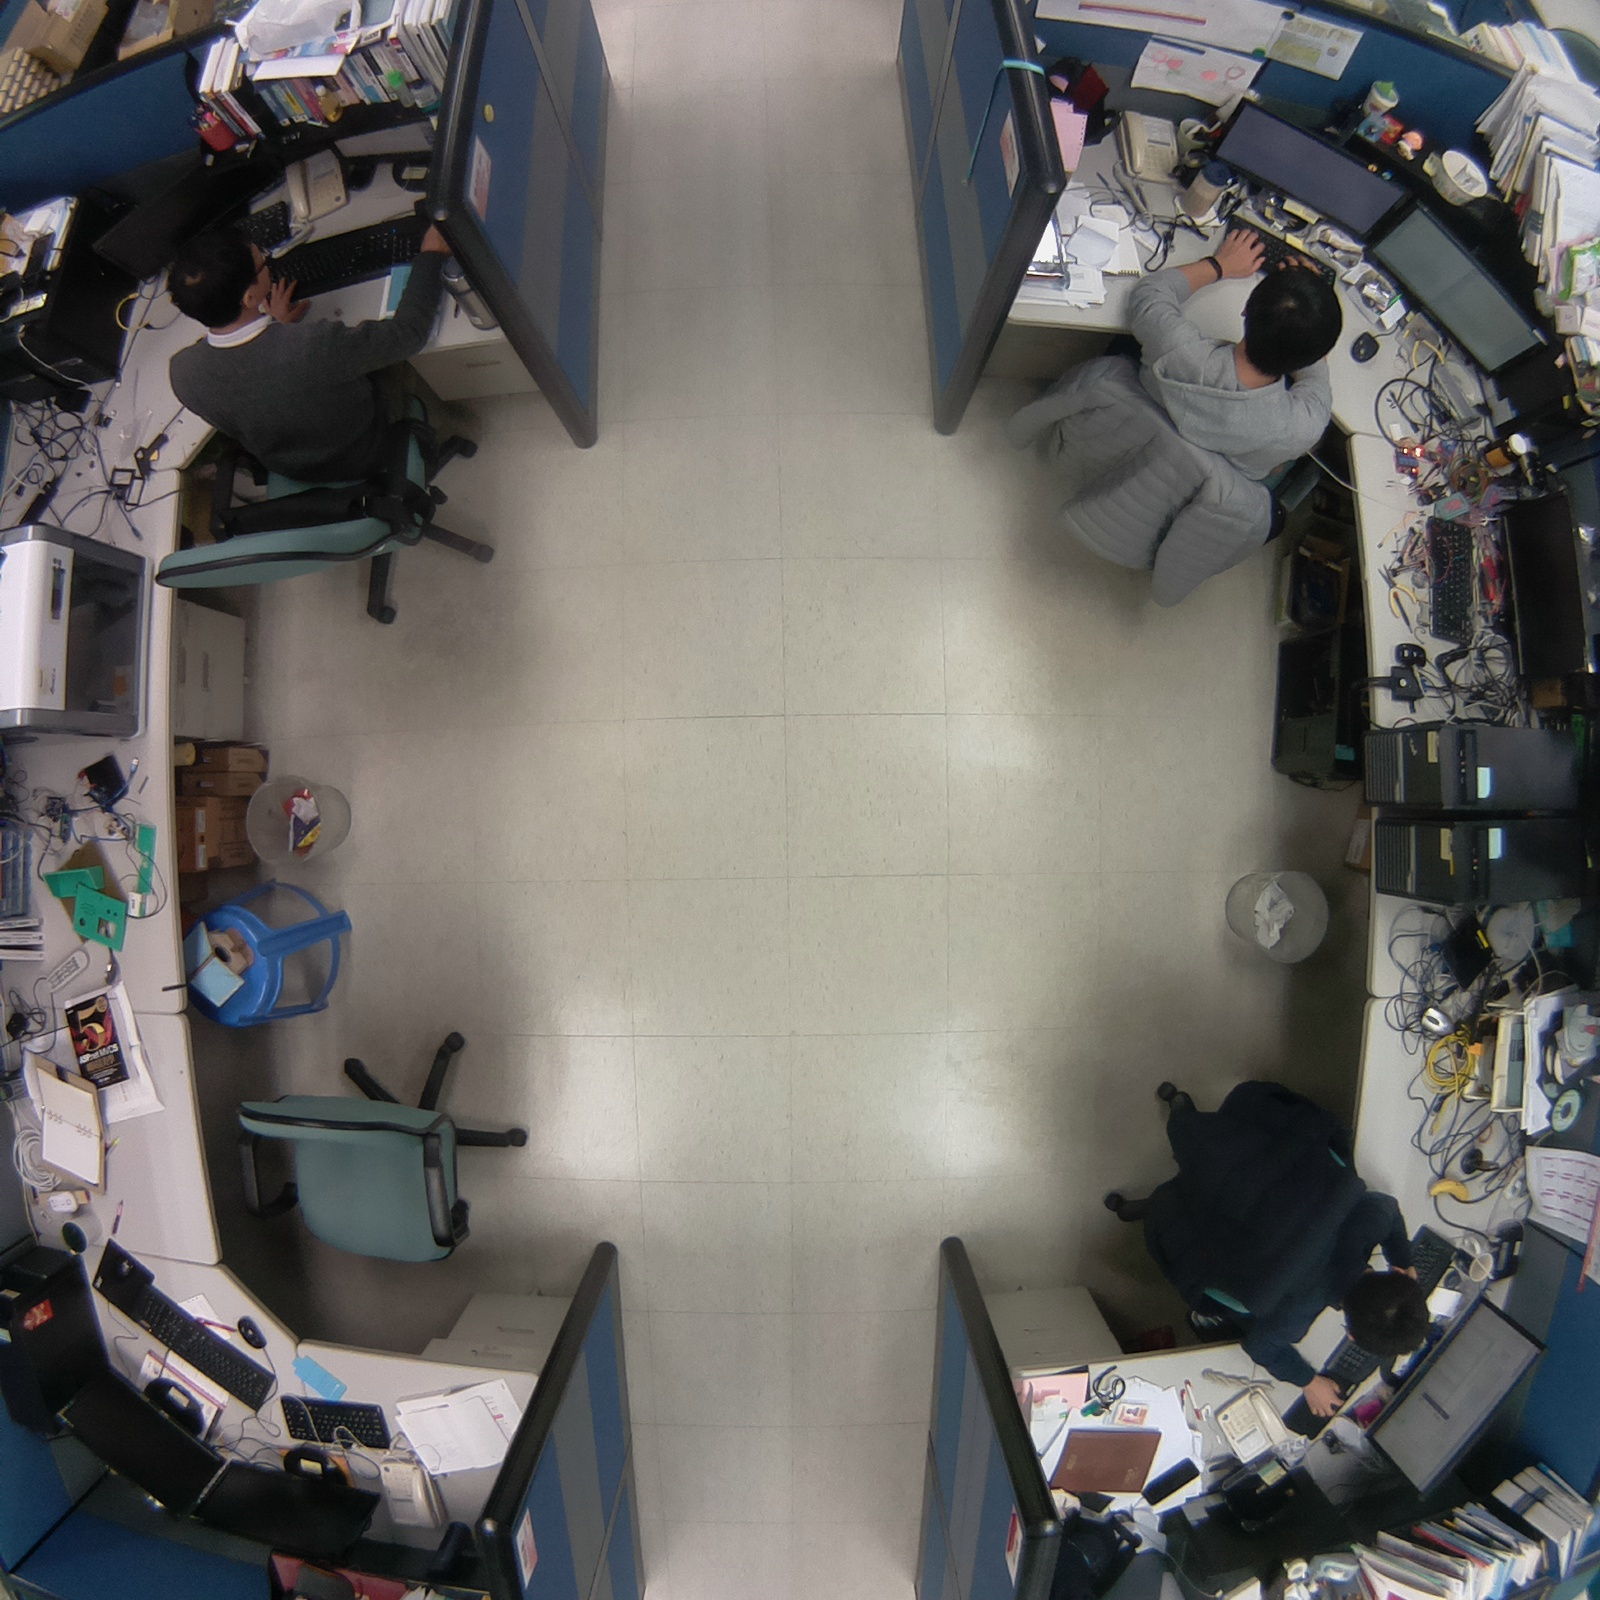chair: (226, 1007, 548, 1289)
sitting: (133, 167, 505, 655), (1059, 1045, 1443, 1449), (993, 204, 1360, 623)
